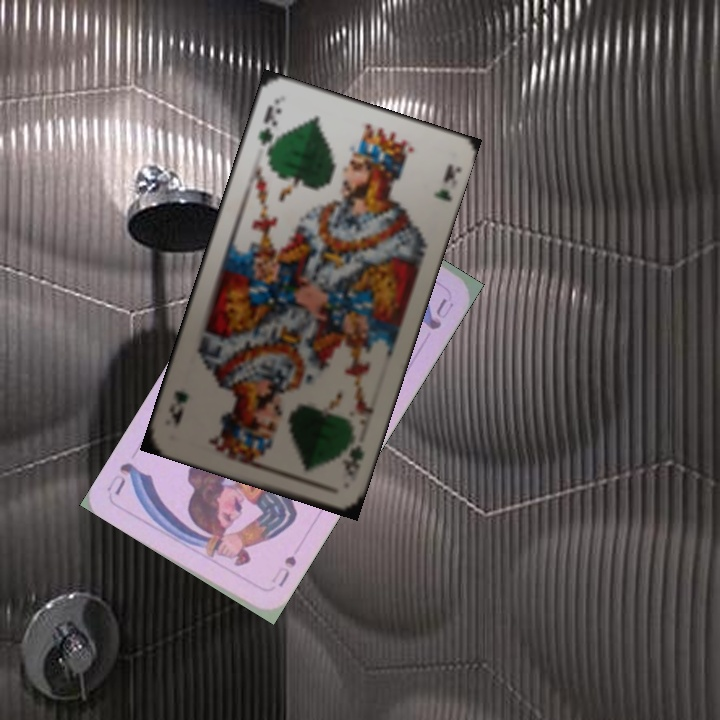GK: (254, 100, 284, 159), (339, 441, 367, 482)
SU: (267, 551, 299, 590)
